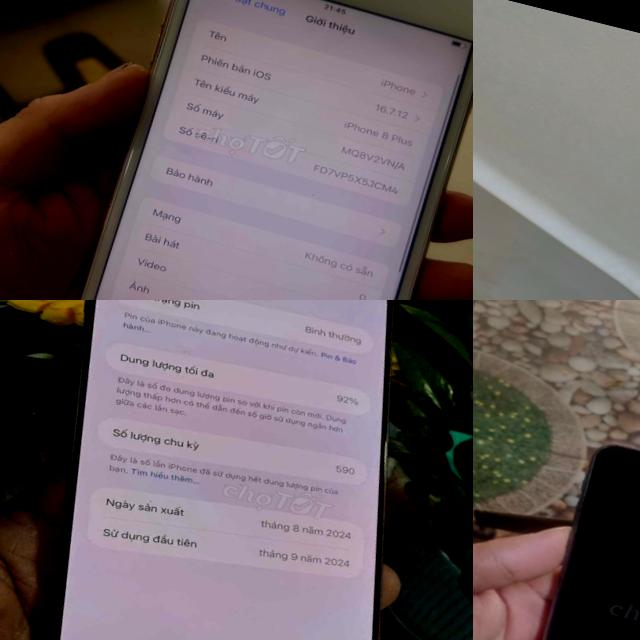gen_11: (505, 426, 640, 640)
gen_16: (49, 300, 392, 640)
gen_7_8: (54, 0, 473, 300)
